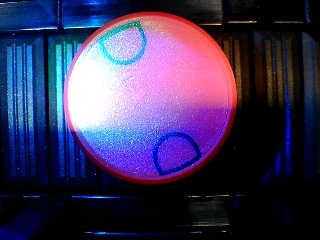MIPO2: (64, 11, 238, 184)
